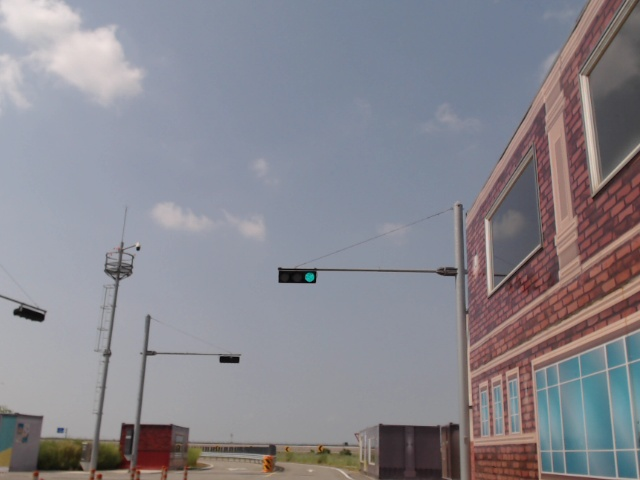green_3: (278, 270, 317, 283)
